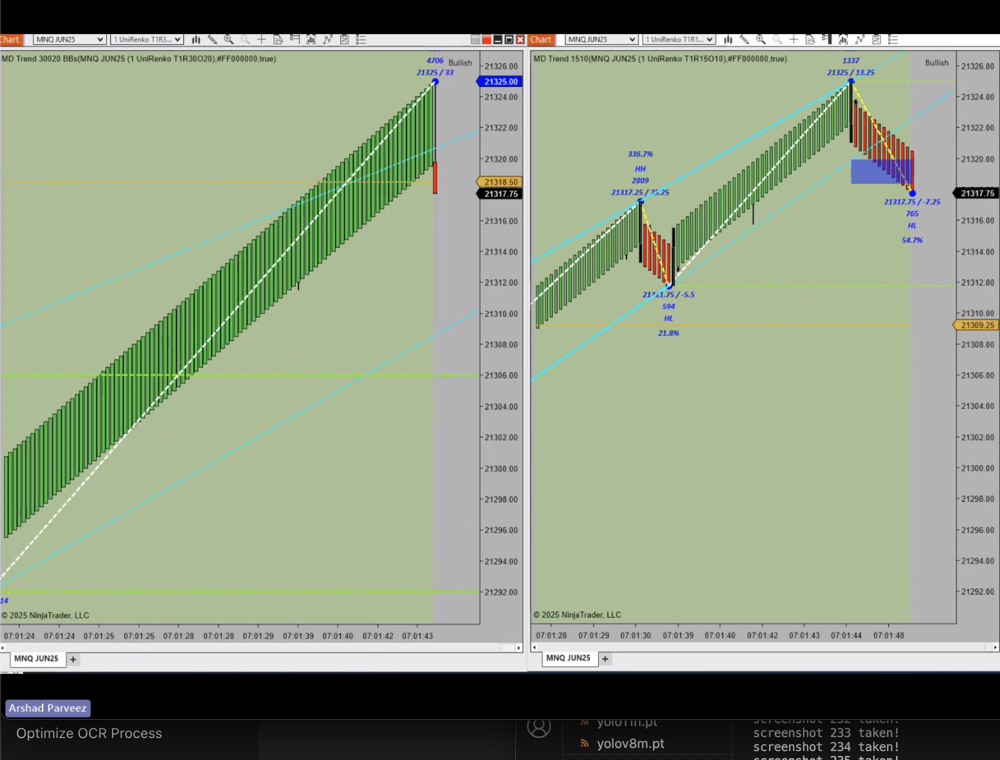HH: (623, 158, 660, 179)
HL: (900, 216, 928, 233), (657, 309, 682, 327)
